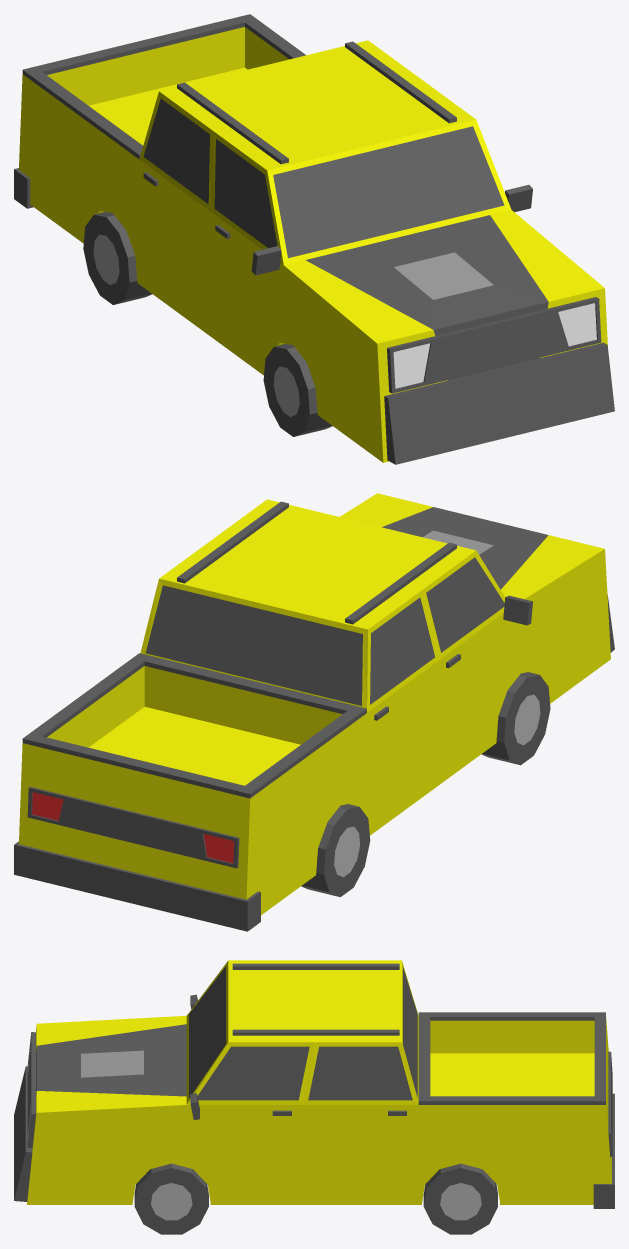
Rendered from SM_Car_03_01.FBX.
The picture shows the model from 3 angles, top to bottom: view 1: azimuth 30°, elevation 25°; view 2: azimuth 150°, elevation 25°; view 3: azimuth 270°, elevation 25°; orthographic projection. The views are drawn at different scales.
Parts seen in each view (by area): view 1: SM_Car_03_01, SM_Wheel_LFront001, SM_Wheel_RBack001; view 2: SM_Car_03_01, SM_Wheel_LFront001, SM_Wheel_RBack001; view 3: SM_Car_03_01, SM_Wheel_LBack001, SM_Wheel_LFront002.
Part boxes in pixels (<box>): SM_Car_03_01: <box>14,14,614,464</box>; SM_Wheel_LFront001: <box>263,344,332,436</box>; SM_Wheel_RBack001: <box>83,212,152,304</box>; SM_Car_03_01: <box>14,493,614,931</box>; SM_Wheel_LFront001: <box>481,672,550,765</box>; SM_Wheel_RBack001: <box>301,804,370,897</box>; SM_Car_03_01: <box>14,960,614,1208</box>; SM_Wheel_LBack001: <box>423,1163,497,1234</box>; SM_Wheel_LFront002: <box>134,1163,208,1234</box>.
Size of the model in its own units: 1.7 by 1.39 by 4.
1 material, 1 textured.
